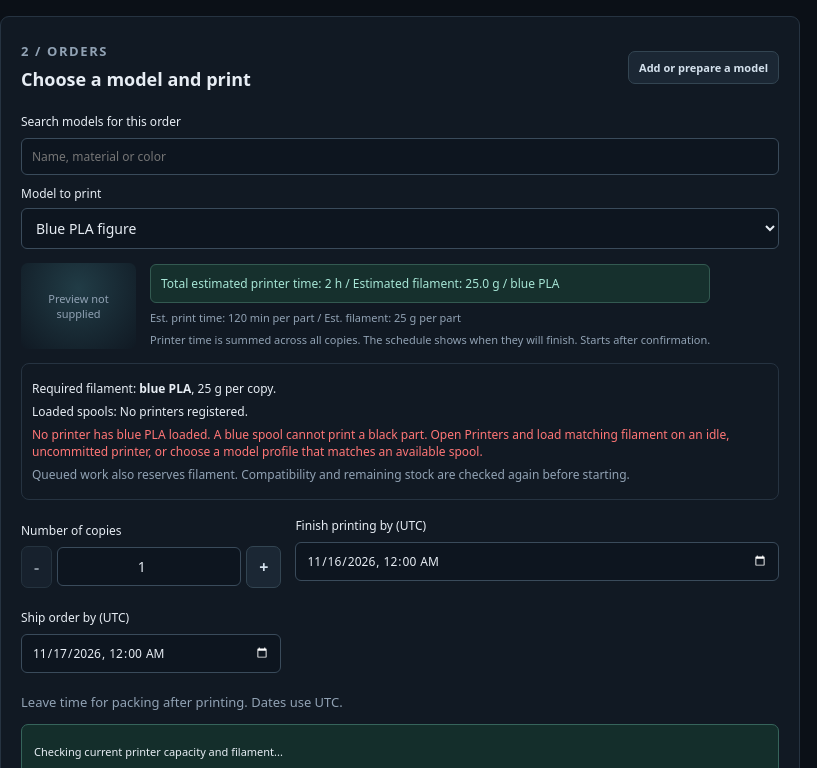
Scenario: busy, feasible and failed estimates remain readable; quantity and model search work by keyboard
This screenshot has width=817, height=768.
Later steps or results of the test are not shown.
Expected: the text "Checking current printer capacity and filament..." is shown, [34,744,283,758]
Click the button named "Increase copies": (264, 566) [246,546,281,588]
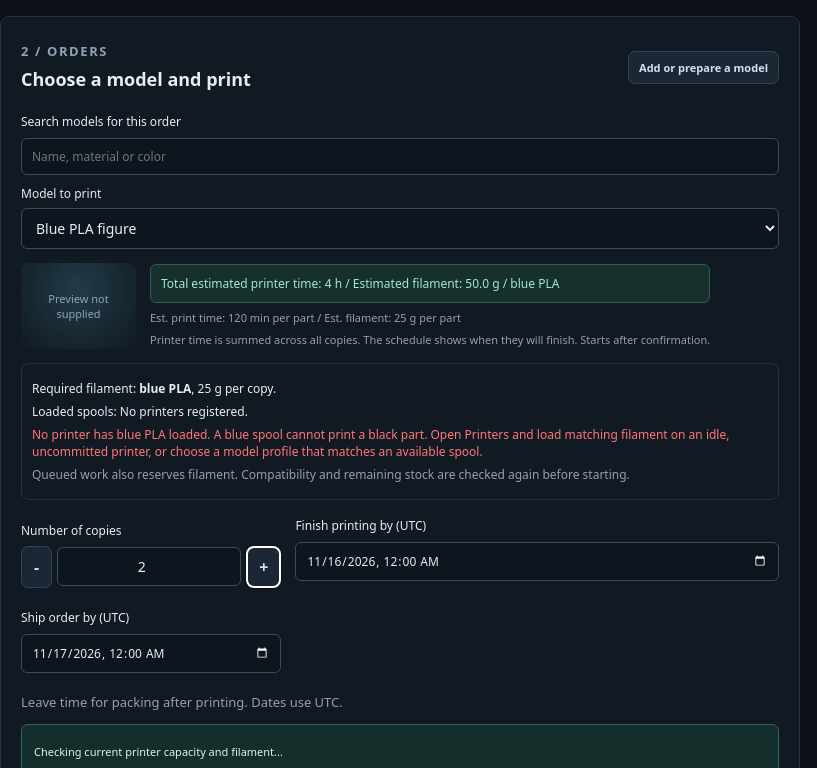
Click the button named "Decrease copies": (37, 566) [21,546,52,588]
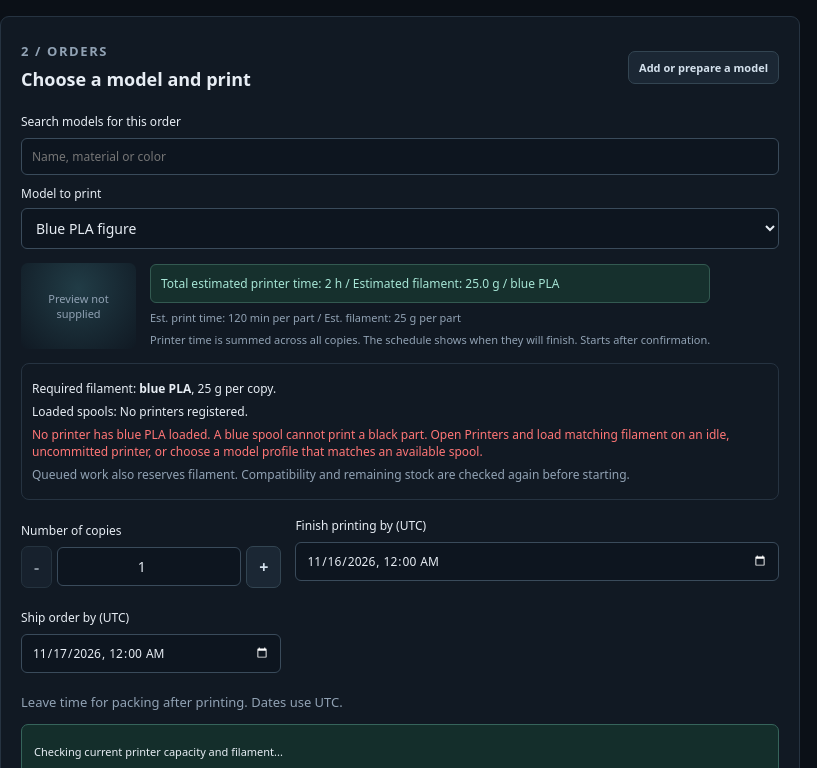
Now the number field labelled "Number of copies" holds "1", box [57,547,241,586]
